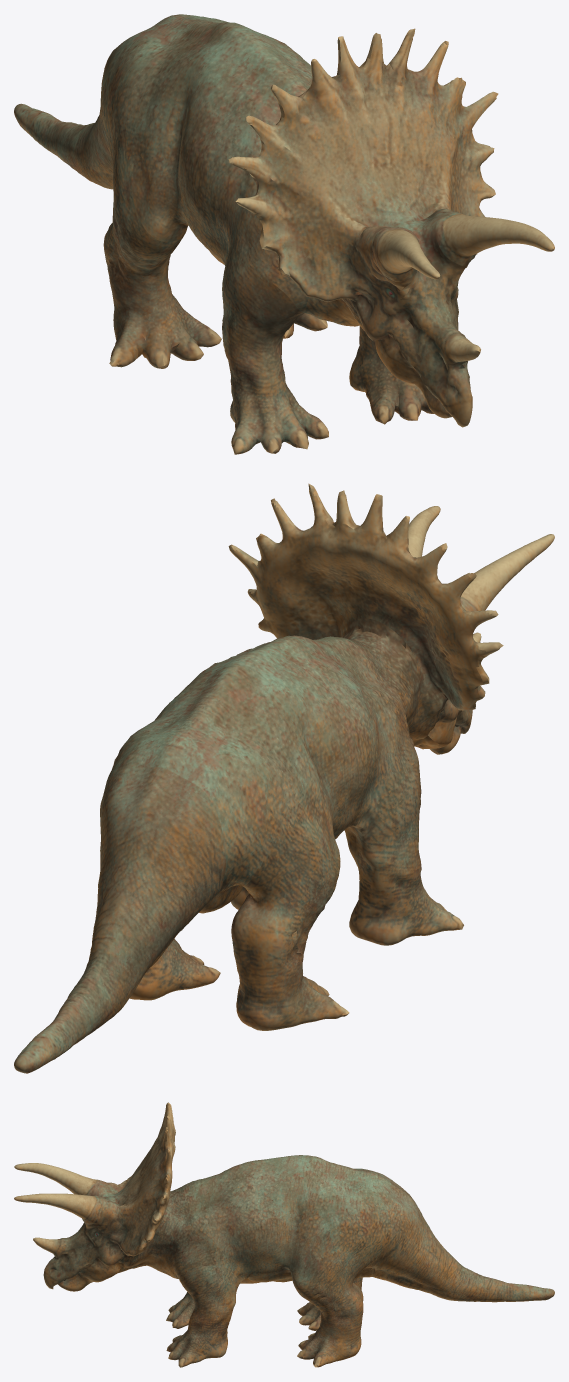
Rendered from triceratops_haverkamp.glb.
The picture shows the model from 3 angles, top to bottom: view 1: azimuth 30°, elevation 25°; view 2: azimuth 150°, elevation 25°; view 3: azimuth 270°, elevation 25°; orthographic projection. The views are drawn at different scales.
Parts seen in each view (by area): view 1: Object_5, Object_4, Object_6, Object_3, Object_2; view 2: Object_4, Object_2, Object_5, Object_3, Object_6; view 3: Object_4, Object_5, Object_3, Object_6, Object_2.
Boxes of the visible parts, bbox=[...] form: Object_5: bbox=[14, 25, 498, 427]; Object_4: bbox=[100, 14, 359, 326]; Object_6: bbox=[222, 246, 433, 454]; Object_3: bbox=[103, 138, 327, 368]; Object_2: bbox=[243, 38, 554, 362]; Object_4: bbox=[100, 618, 432, 913]; Object_2: bbox=[230, 493, 554, 754]; Object_5: bbox=[14, 483, 503, 1073]; Object_3: bbox=[129, 817, 349, 1030]; Object_6: bbox=[231, 762, 463, 945]; Object_4: bbox=[127, 1155, 391, 1283]; Object_5: bbox=[43, 1102, 554, 1302]; Object_3: bbox=[292, 1249, 366, 1367]; Object_6: bbox=[166, 1265, 241, 1367]; Object_2: bbox=[14, 1105, 175, 1274].
Size of the model in its own units: 1.92 by 2.77 by 5.92.
Materials: 1 (1 with a texture image).
